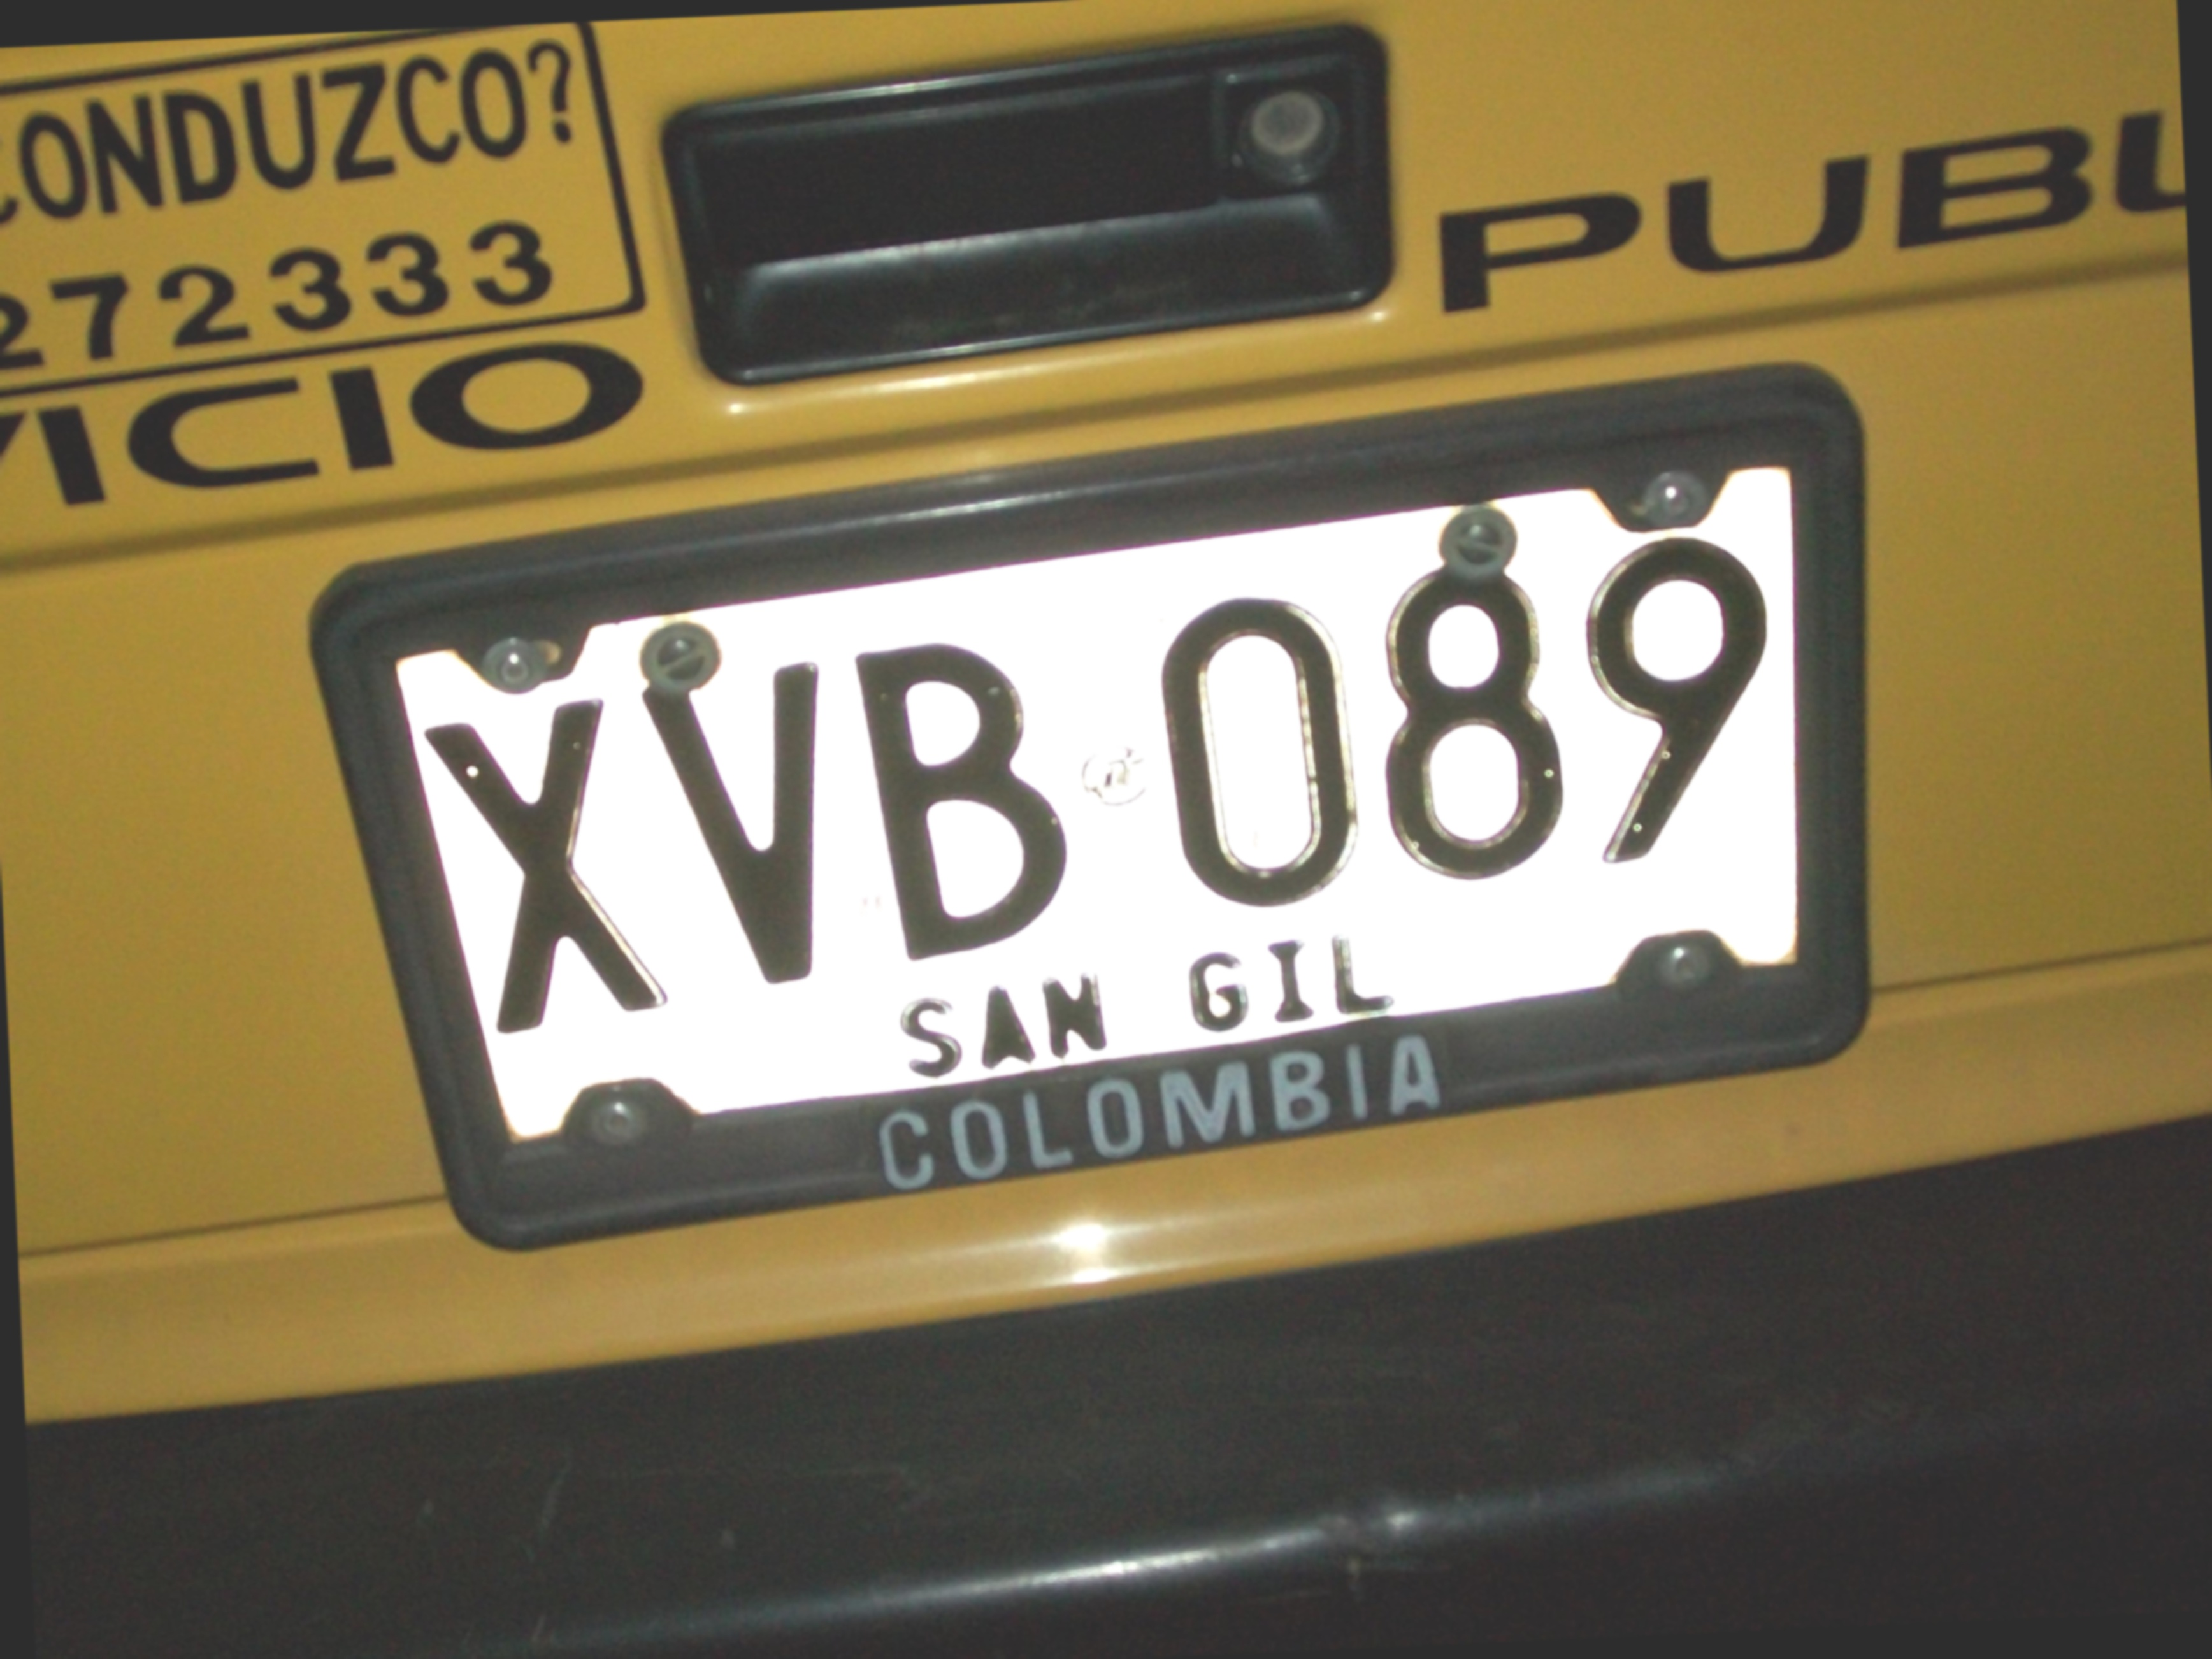placas: (381, 442, 1869, 1227)
